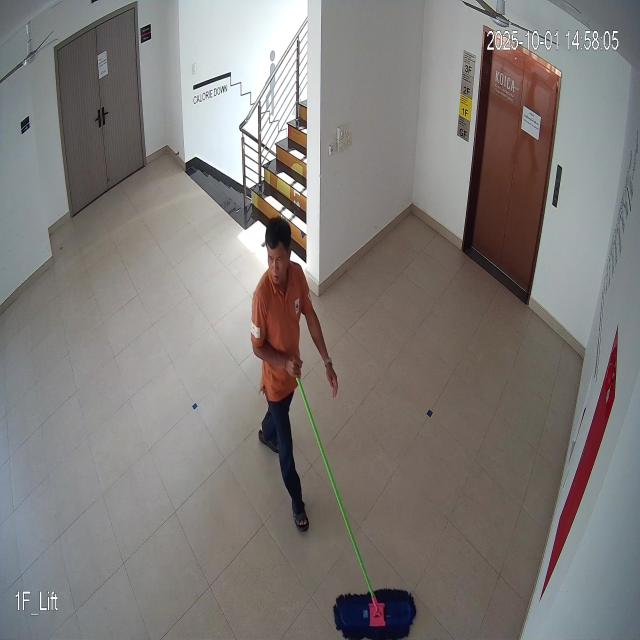face: (260, 213, 296, 296)
